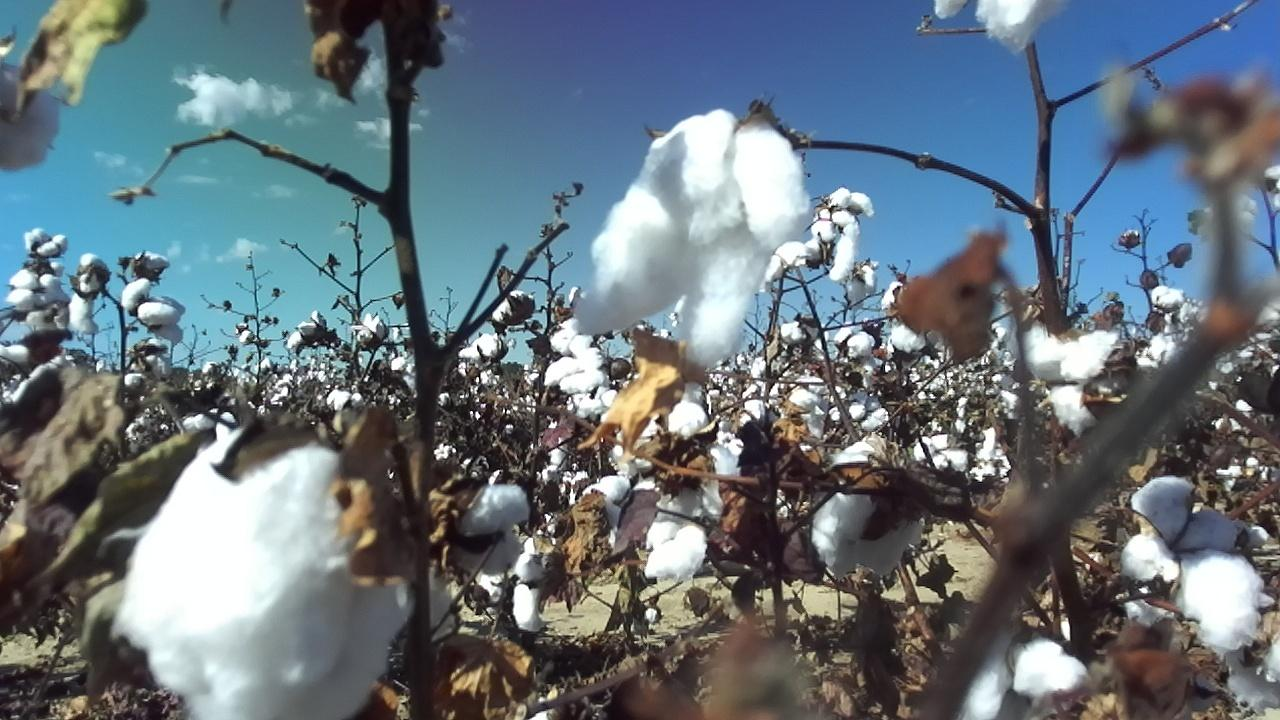cotton_ready: (116, 430, 420, 720), (573, 105, 812, 370), (1125, 477, 1268, 651), (425, 485, 530, 642), (812, 442, 927, 584), (613, 400, 742, 518), (957, 640, 1090, 720), (1006, 310, 1119, 385), (584, 447, 661, 547), (933, 0, 1069, 54), (1194, 632, 1280, 716), (479, 552, 544, 639), (815, 190, 874, 282), (882, 282, 941, 354), (121, 279, 185, 345), (645, 519, 705, 582), (785, 377, 830, 445), (835, 325, 882, 389), (72, 254, 104, 337), (119, 253, 169, 304), (7, 270, 67, 312), (545, 350, 604, 392), (760, 242, 810, 284), (570, 389, 623, 419)
